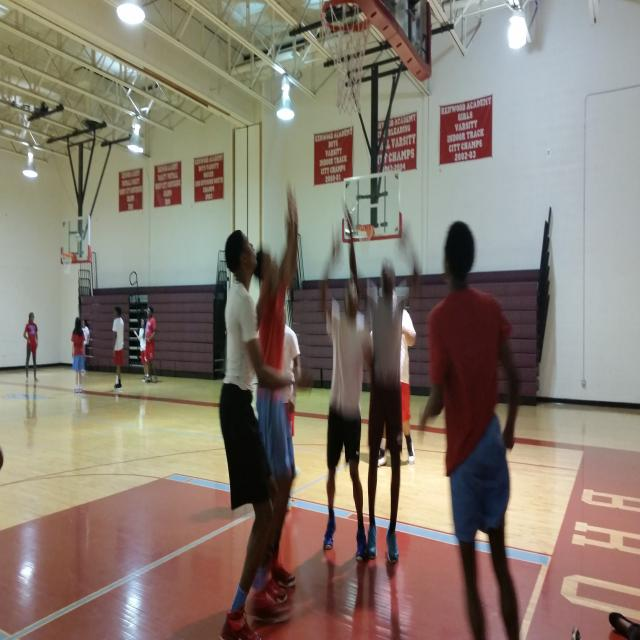body: (417, 221, 521, 640), (218, 226, 300, 640), (338, 194, 422, 566), (317, 223, 370, 566), (252, 246, 299, 607), (254, 293, 297, 596), (294, 547, 406, 640), (368, 284, 418, 468), (170, 574, 295, 640), (281, 328, 297, 512), (355, 443, 413, 475), (184, 502, 252, 524), (70, 316, 86, 394), (144, 305, 159, 384), (23, 311, 39, 383), (112, 305, 125, 390), (133, 317, 150, 382), (24, 384, 37, 450), (81, 318, 90, 356)
